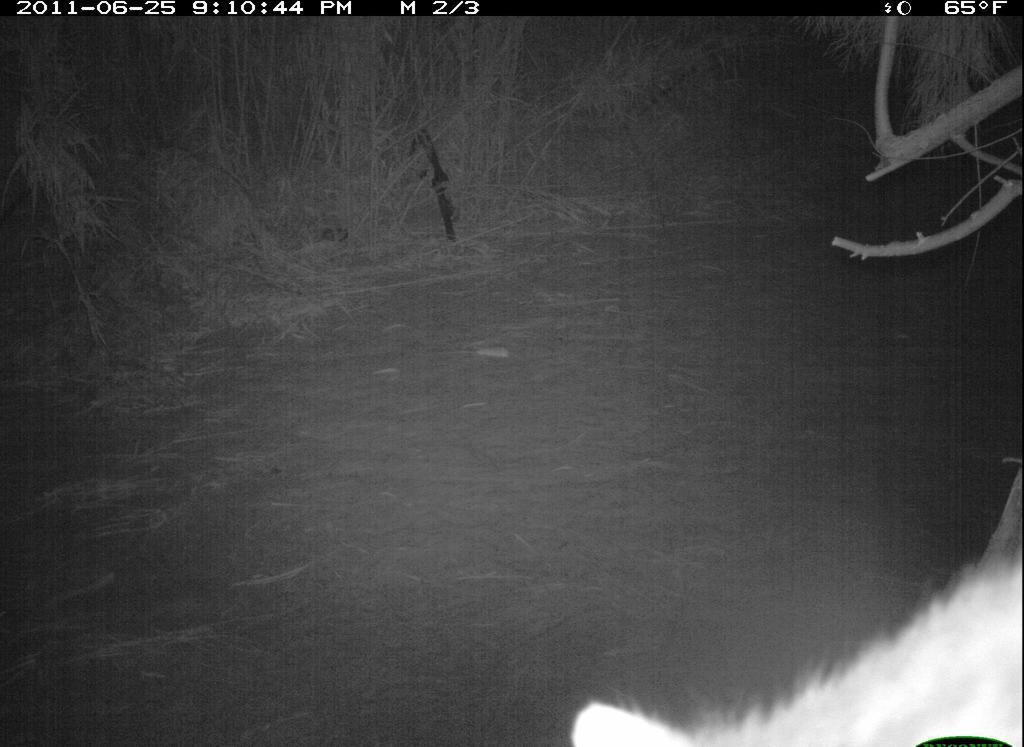raccoon: (559, 523, 1022, 747)
